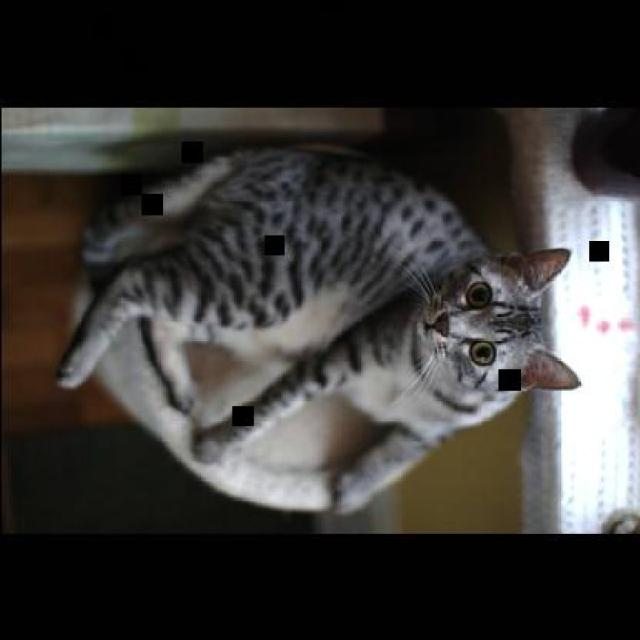unauthorized: (54, 142, 581, 516)
